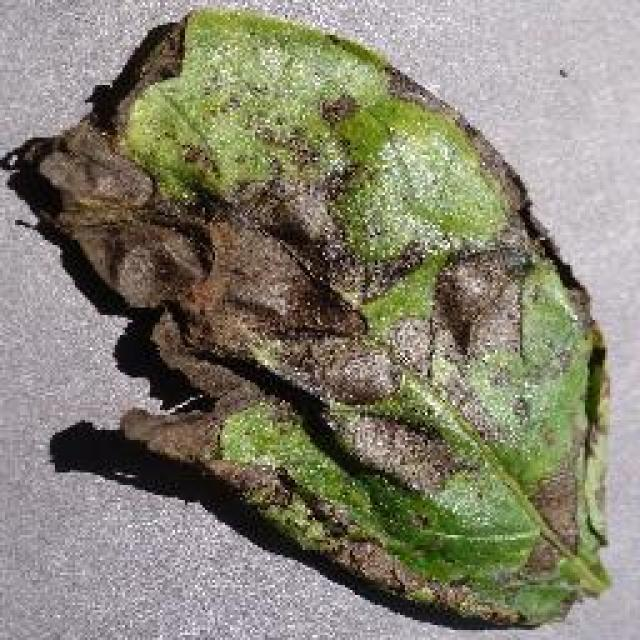Potato: (5, 5, 613, 630)
